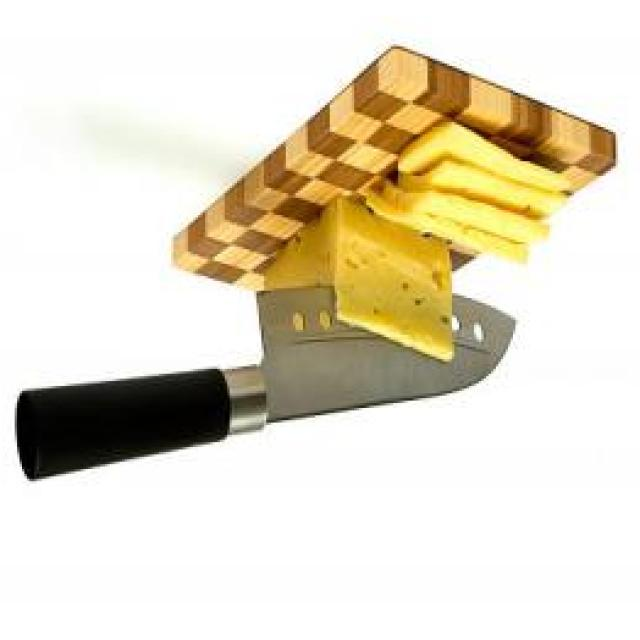knife: (12, 282, 516, 484)
